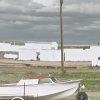Boat: (4, 71, 91, 99)
